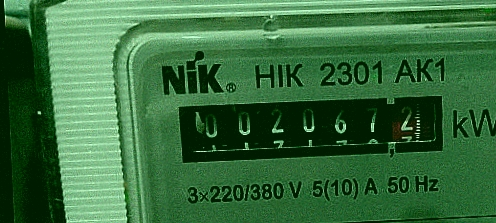0: (200, 110, 219, 140), (297, 104, 316, 133), (234, 107, 252, 137)
2: (396, 102, 415, 132), (267, 105, 285, 135)
6: (330, 105, 349, 135)
7: (363, 104, 380, 135)
screen: (163, 80, 458, 176)
